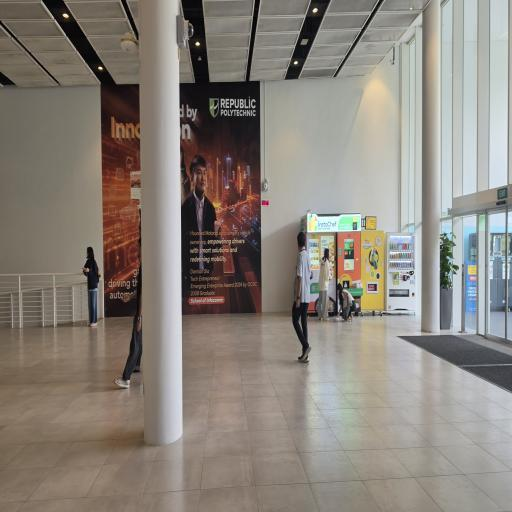person_left: (122, 209, 144, 399), (290, 226, 311, 366), (80, 232, 102, 329)
